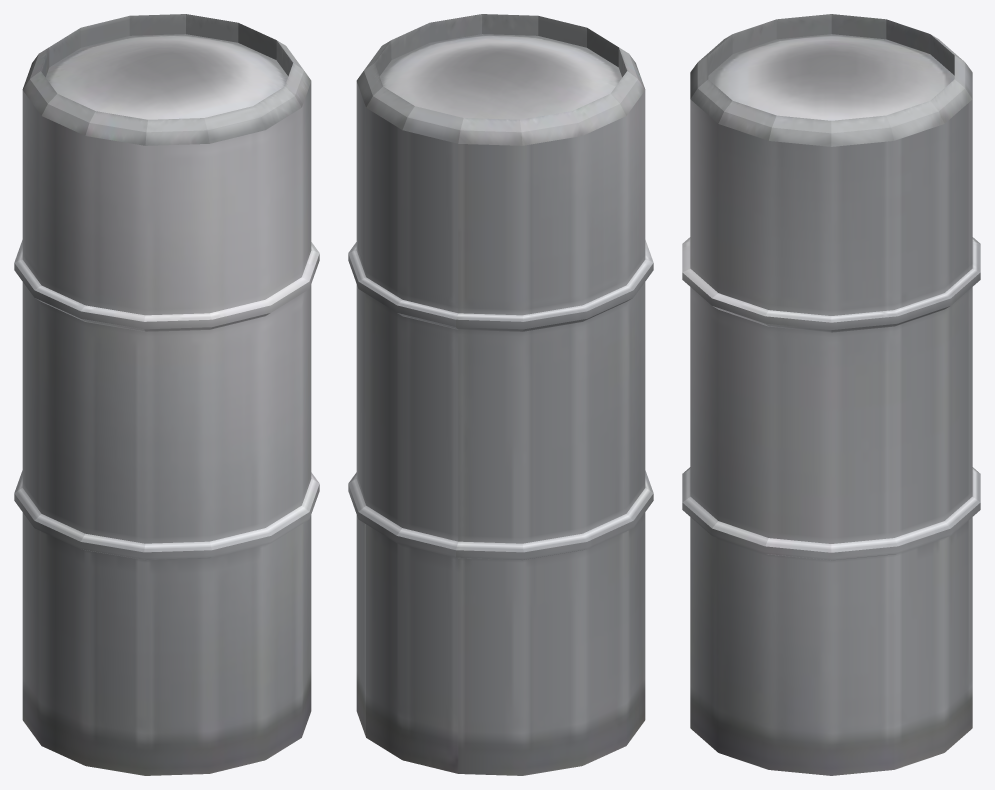
Rendered from industrial_silos_02.glb.
3 views of the same model, side by side, from view 1: azimuth 30°, elevation 25°; view 2: azimuth 150°, elevation 25°; view 3: azimuth 270°, elevation 25° (orthographic).
Parts seen in each view (by area): view 1: ind:silos_02; view 2: ind:silos_02; view 3: ind:silos_02.
Boxes of the visible parts, box(x1,y1,x2,y2) form: ind:silos_02: box(14, 14, 319, 775); ind:silos_02: box(348, 14, 653, 775); ind:silos_02: box(682, 14, 980, 775).
Size of the model in its own units: 3.63 by 8.6 by 3.54.
Materials: 1 (1 with a texture image).
